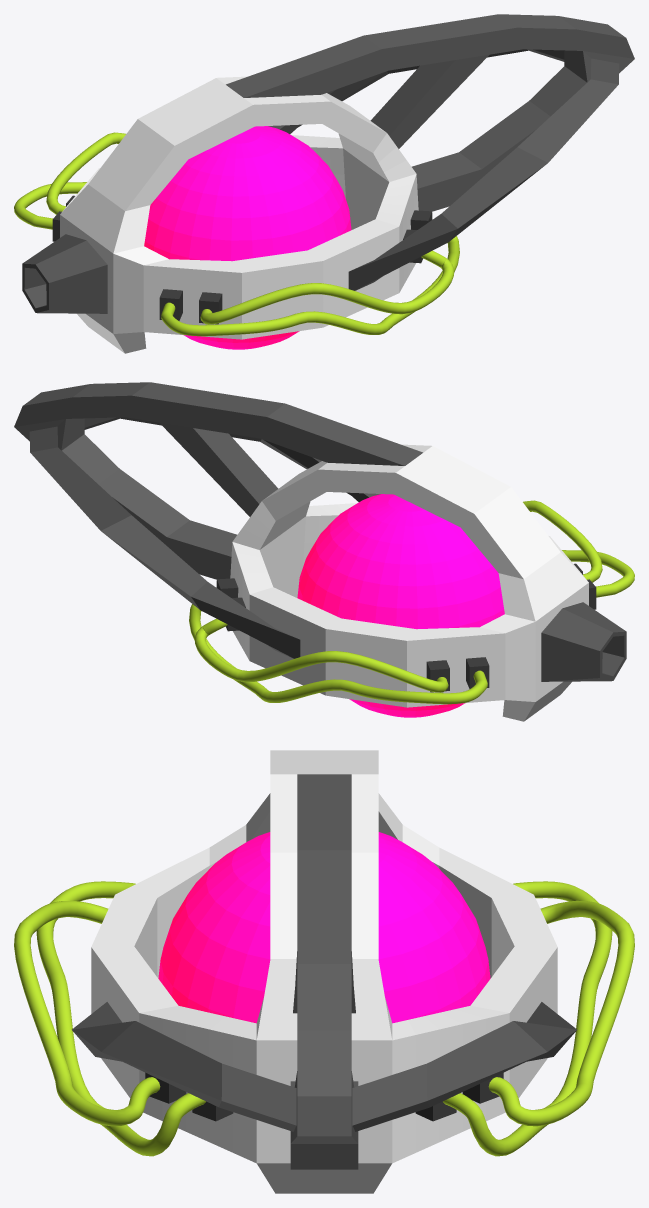
The model's file is Portal gun.fbx.
3 renders of one model, top to bottom at view 1: azimuth 30°, elevation 25°; view 2: azimuth 150°, elevation 25°; view 3: azimuth 270°, elevation 25°, orthographic. The views are drawn at different scales.
Parts seen in each view (by area): view 1: Cube, Sphere, BézierCurve; view 2: Cube, Sphere, BézierCurve; view 3: Cube, Sphere, BézierCurve.
Boxes of the visible parts, <box> form: Cube: <box>22,14,634,353</box>; Sphere: <box>144,126,351,349</box>; BézierCurve: <box>14,132,459,336</box>; Cube: <box>14,382,626,721</box>; Sphere: <box>297,494,504,717</box>; BézierCurve: <box>189,500,634,704</box>; Cube: <box>72,750,576,1193</box>; Sphere: <box>158,832,490,1023</box>; BézierCurve: <box>14,881,634,1156</box>.
Size of the model in its own units: 597 by 255 by 371.
